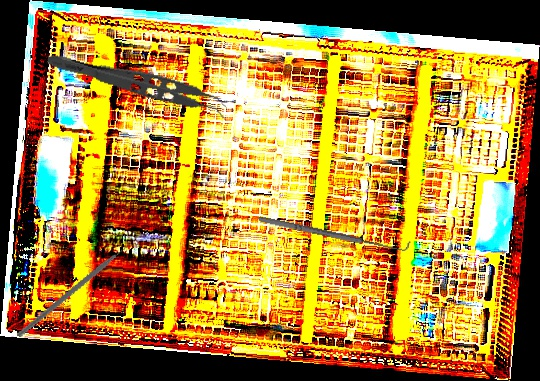Chopper: (16, 218, 142, 365)
Hook Surgical: (257, 209, 411, 256)
Tissue Forceps: (42, 50, 232, 123)
